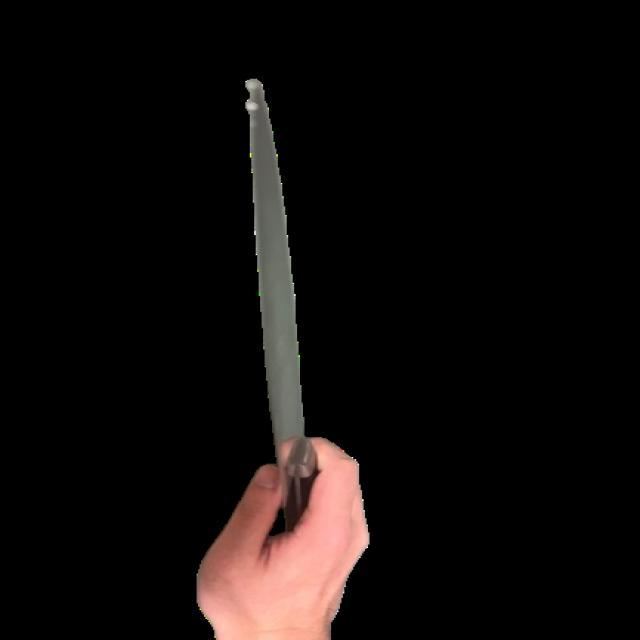knife: (239, 36, 315, 524)
